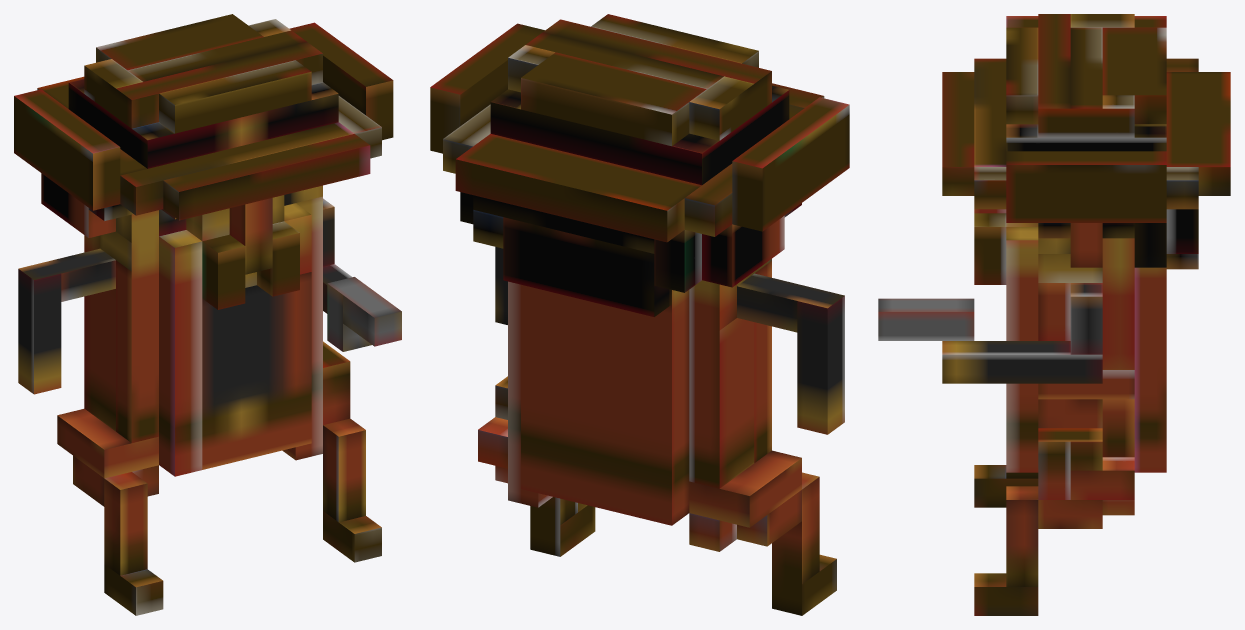
The model's file is frameone_2.dae.
3 views of the same model, side by side, from view 1: azimuth 30°, elevation 25°; view 2: azimuth 150°, elevation 25°; view 3: azimuth 270°, elevation 25° (orthographic). The views are drawn at different scales.
Visible parts, largest first — view 1: frameone_2; view 2: frameone_2; view 3: frameone_2.
Part boxes in pixels (x1,y1,x2,y2): frameone_2: [14, 14, 401, 615]; frameone_2: [430, 14, 849, 615]; frameone_2: [878, 14, 1230, 615].
Size of the model in its own units: 12 by 17 by 11.
